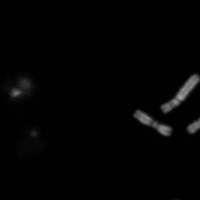chromosome: (160, 73, 200, 114), (133, 109, 171, 136), (10, 78, 35, 101), (187, 107, 200, 134), (170, 199, 192, 200)
